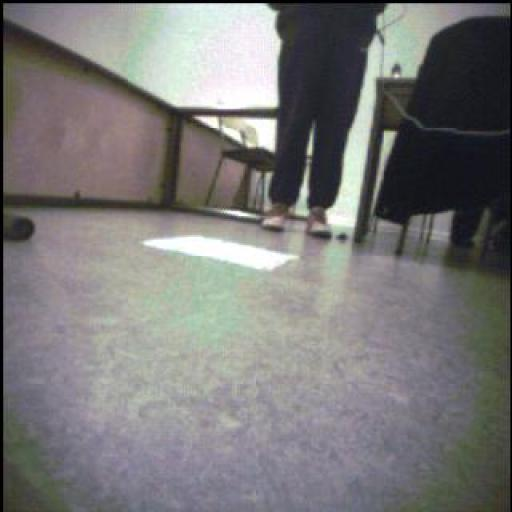Pad: (144, 237, 299, 272)
